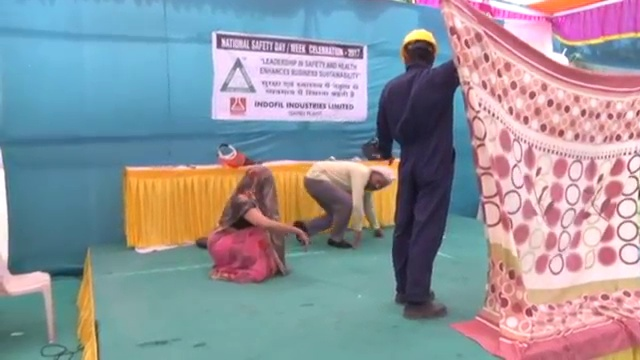helmet: (400, 28, 437, 58)
helmet_off: (368, 162, 395, 197), (244, 162, 271, 188)
helmet_on: (399, 28, 438, 73)
person: (380, 25, 463, 322), (203, 162, 307, 287), (296, 159, 395, 248)
